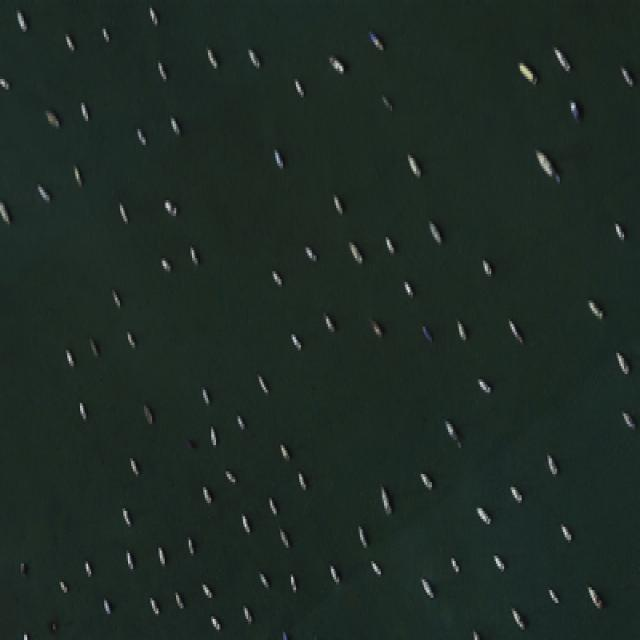boat: (550, 40, 572, 71), (532, 145, 554, 174), (515, 58, 536, 82), (426, 214, 442, 242), (586, 579, 602, 606), (507, 316, 522, 342), (347, 237, 362, 263), (618, 58, 632, 84), (614, 348, 629, 371), (568, 95, 581, 121), (509, 601, 523, 624), (380, 479, 390, 511), (367, 27, 382, 48), (327, 50, 342, 71), (35, 179, 50, 200), (406, 150, 419, 174), (247, 42, 260, 66), (15, 5, 28, 29), (586, 298, 603, 316), (43, 105, 59, 124), (507, 480, 522, 500), (419, 572, 432, 595), (474, 503, 489, 522), (443, 416, 456, 437), (156, 55, 167, 79), (546, 448, 556, 474), (368, 314, 381, 334), (72, 158, 82, 184), (277, 522, 288, 545), (256, 369, 267, 392), (117, 198, 128, 221), (162, 195, 176, 213), (491, 550, 504, 569), (168, 110, 179, 132), (619, 408, 634, 424), (379, 90, 392, 108), (205, 42, 216, 63), (0, 198, 10, 221), (88, 332, 98, 355), (418, 468, 432, 484), (328, 558, 338, 580), (110, 284, 120, 306), (558, 519, 570, 537), (134, 124, 146, 142), (456, 316, 466, 337), (384, 232, 394, 253), (322, 308, 332, 329), (64, 29, 74, 50), (78, 98, 88, 119), (142, 401, 152, 422), (128, 453, 138, 474), (480, 255, 491, 274), (421, 321, 432, 340), (304, 242, 317, 258), (357, 522, 366, 545), (332, 190, 342, 210), (613, 219, 624, 237), (173, 584, 182, 606), (475, 376, 490, 389), (270, 266, 282, 282), (548, 582, 558, 601), (267, 492, 277, 511), (200, 384, 210, 403), (290, 329, 300, 348), (120, 503, 130, 522), (403, 277, 413, 295), (240, 511, 250, 529), (278, 440, 288, 458), (235, 411, 245, 429), (272, 145, 282, 163), (64, 345, 74, 363), (200, 580, 211, 596), (189, 242, 197, 264), (242, 600, 251, 619), (298, 466, 306, 487), (293, 74, 302, 92), (149, 593, 158, 611), (202, 482, 211, 500), (125, 327, 134, 345), (370, 556, 380, 572), (187, 532, 194, 553), (126, 545, 133, 566), (450, 553, 459, 569), (210, 611, 219, 627), (149, 3, 157, 21), (224, 466, 235, 479), (101, 23, 109, 40), (259, 569, 267, 585), (102, 595, 110, 611), (78, 398, 85, 416), (160, 256, 170, 268), (210, 424, 216, 443), (19, 558, 26, 574), (157, 543, 163, 561), (0, 74, 8, 87), (59, 577, 67, 590), (85, 558, 91, 574), (290, 569, 294, 587), (456, 437, 461, 445), (554, 171, 558, 179)
